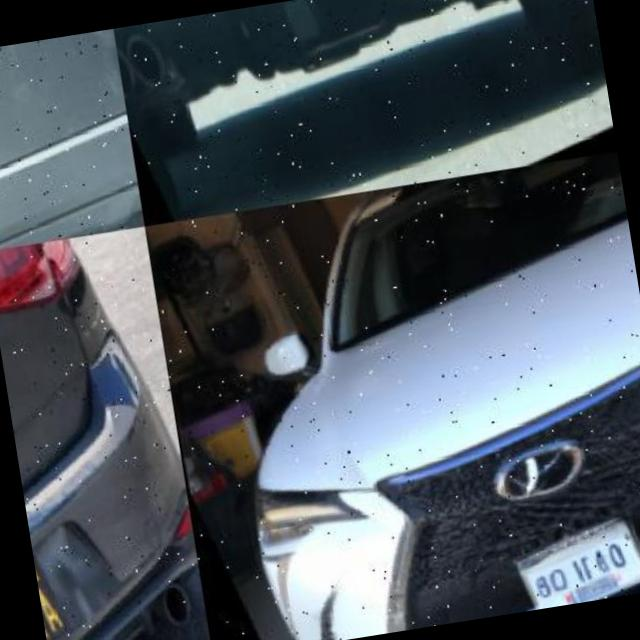LicensePlate: (513, 520, 640, 610), (32, 537, 115, 640), (204, 0, 328, 44)
